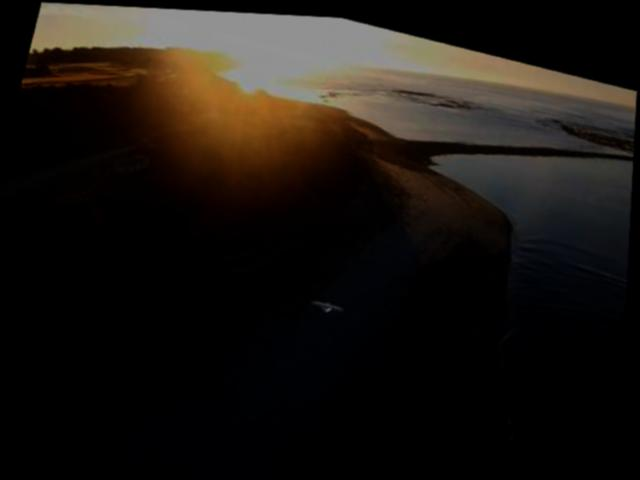uav: (310, 289, 351, 317)
